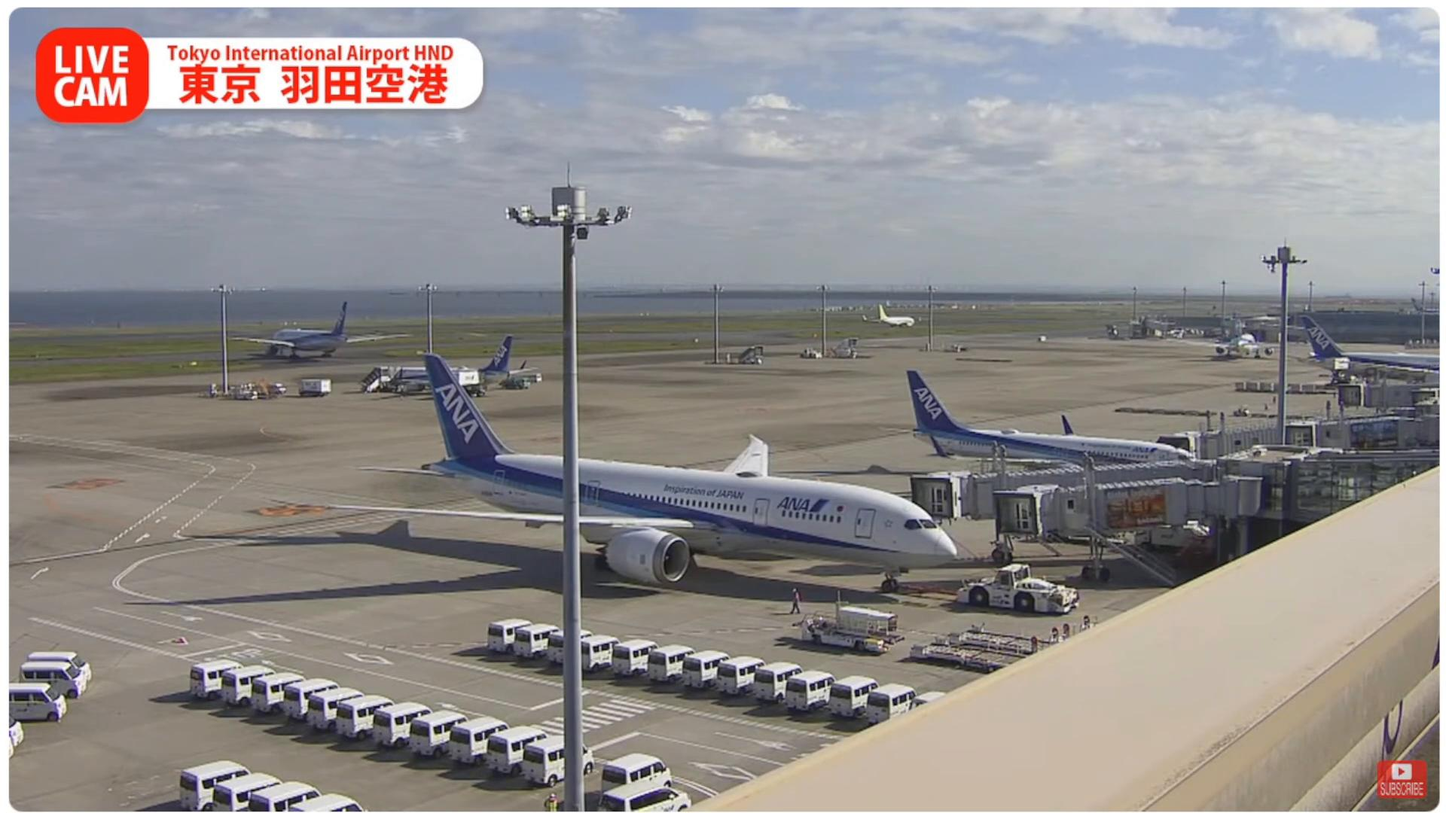APS: (955, 564, 1092, 619)
Aerobridge: (910, 460, 1217, 520), (991, 476, 1264, 540)
Airplane: (318, 354, 961, 599)
JCPL: (930, 626, 1059, 654), (911, 641, 1025, 671)
Skyloader: (794, 600, 908, 654)
Window: (1290, 456, 1440, 523)
